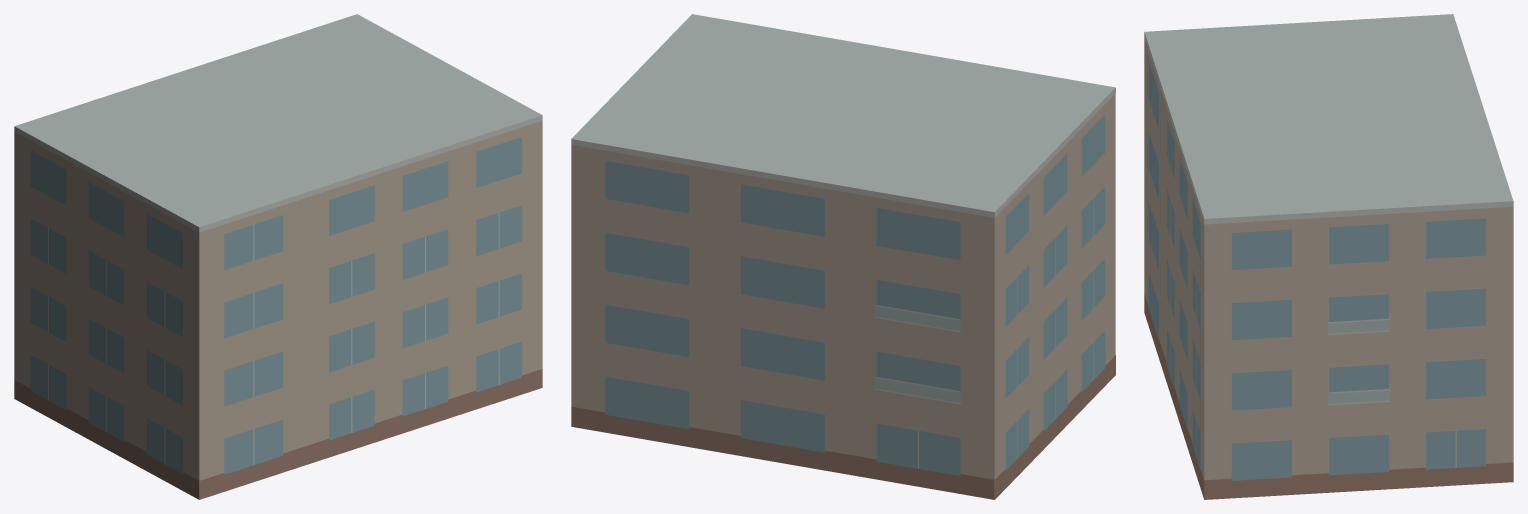
Rendered from residential-c0f9815a-a2aa-4614-a42f-17937f9b88f0.glb.
The picture shows the model from 3 angles, left to right: view 1: azimuth 30°, elevation 25°; view 2: azimuth 150°, elevation 25°; view 3: azimuth 270°, elevation 25°; orthographic projection. The views are drawn at different scales.
Parts seen in each view (by area): view 1: residential-c0f9815a-a2aa-4614-a42f-17937f9b88f0.tmp; view 2: residential-c0f9815a-a2aa-4614-a42f-17937f9b88f0.tmp; view 3: residential-c0f9815a-a2aa-4614-a42f-17937f9b88f0.tmp.
Boxes of the visible parts, <box> form: residential-c0f9815a-a2aa-4614-a42f-17937f9b88f0.tmp: <box>14,14,542,499</box>; residential-c0f9815a-a2aa-4614-a42f-17937f9b88f0.tmp: <box>571,14,1115,499</box>; residential-c0f9815a-a2aa-4614-a42f-17937f9b88f0.tmp: <box>1144,14,1513,499</box>.
Size of the model in its own units: 19.1 by 12.2 by 14.54.
